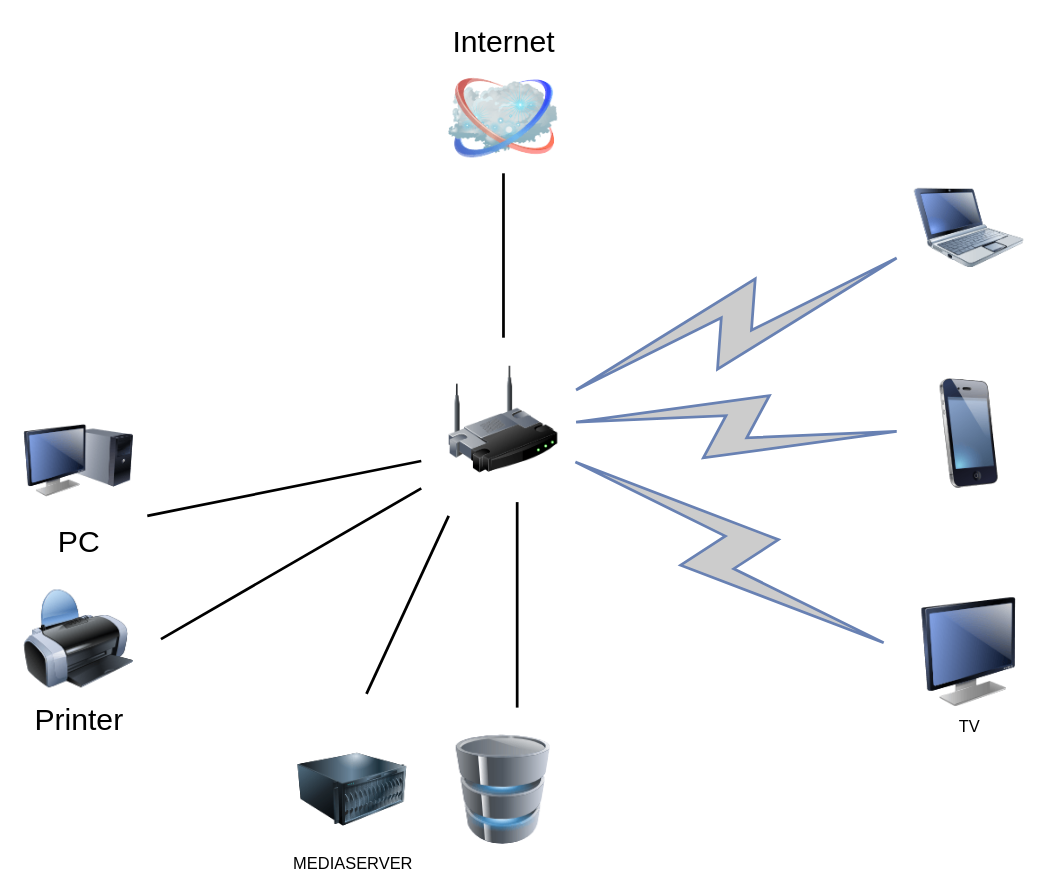
This 1047x896 diagram has some shape labels left out. Here are the shapes that lost their labels. From the top down, the centre of each, then its label:
the point at 968,227: Laptop
the point at 968,433: Mobile
the point at 503,789: NAS
